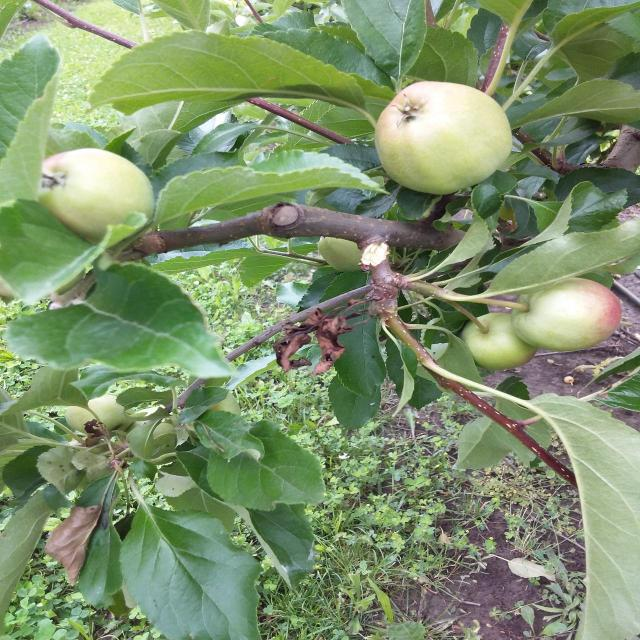-FireBlight-: (272, 297, 367, 387)
